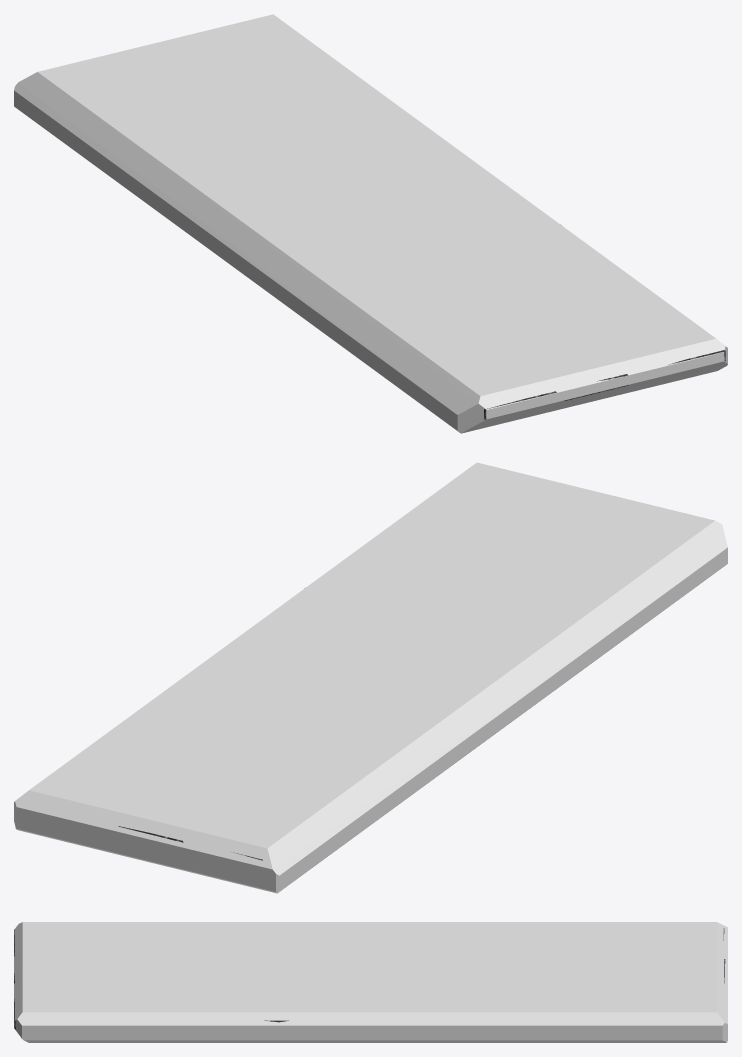
The model's file is SM_wood_balkony_03.fbx.
The picture shows the model from 3 angles, top to bottom: view 1: azimuth 30°, elevation 25°; view 2: azimuth 150°, elevation 25°; view 3: azimuth 270°, elevation 25°; orthographic projection. The views are drawn at different scales.
Visible parts, largest first — view 1: SM_wood_balkony_03_ConvexHulls; view 2: SM_wood_balkony_03_ConvexHulls; view 3: SM_wood_balkony_03_ConvexHulls.
Part boxes in pixels (left/top/right/bottom): SM_wood_balkony_03_ConvexHulls: left=14, top=14, right=727, bottom=433; SM_wood_balkony_03_ConvexHulls: left=14, top=462, right=727, bottom=893; SM_wood_balkony_03_ConvexHulls: left=14, top=922, right=727, bottom=1042.
Bounding box in the file's own units: 134 × 400 × 17.77.
